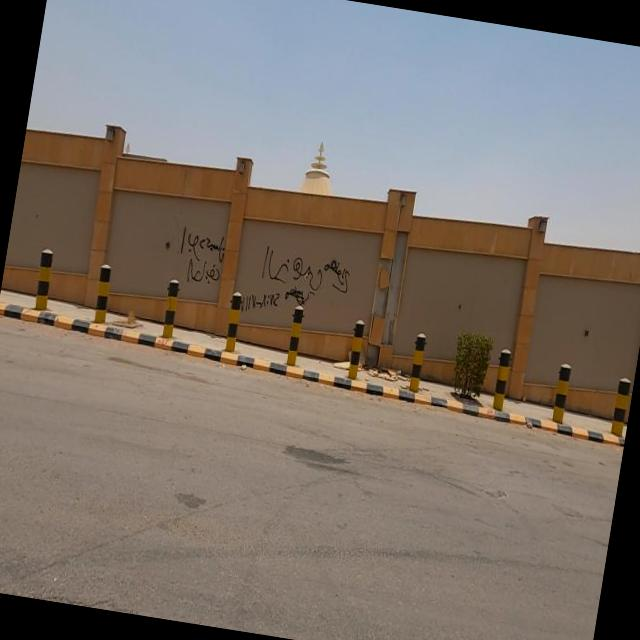debris: (169, 178, 422, 392), (117, 169, 290, 350), (336, 329, 436, 412)
